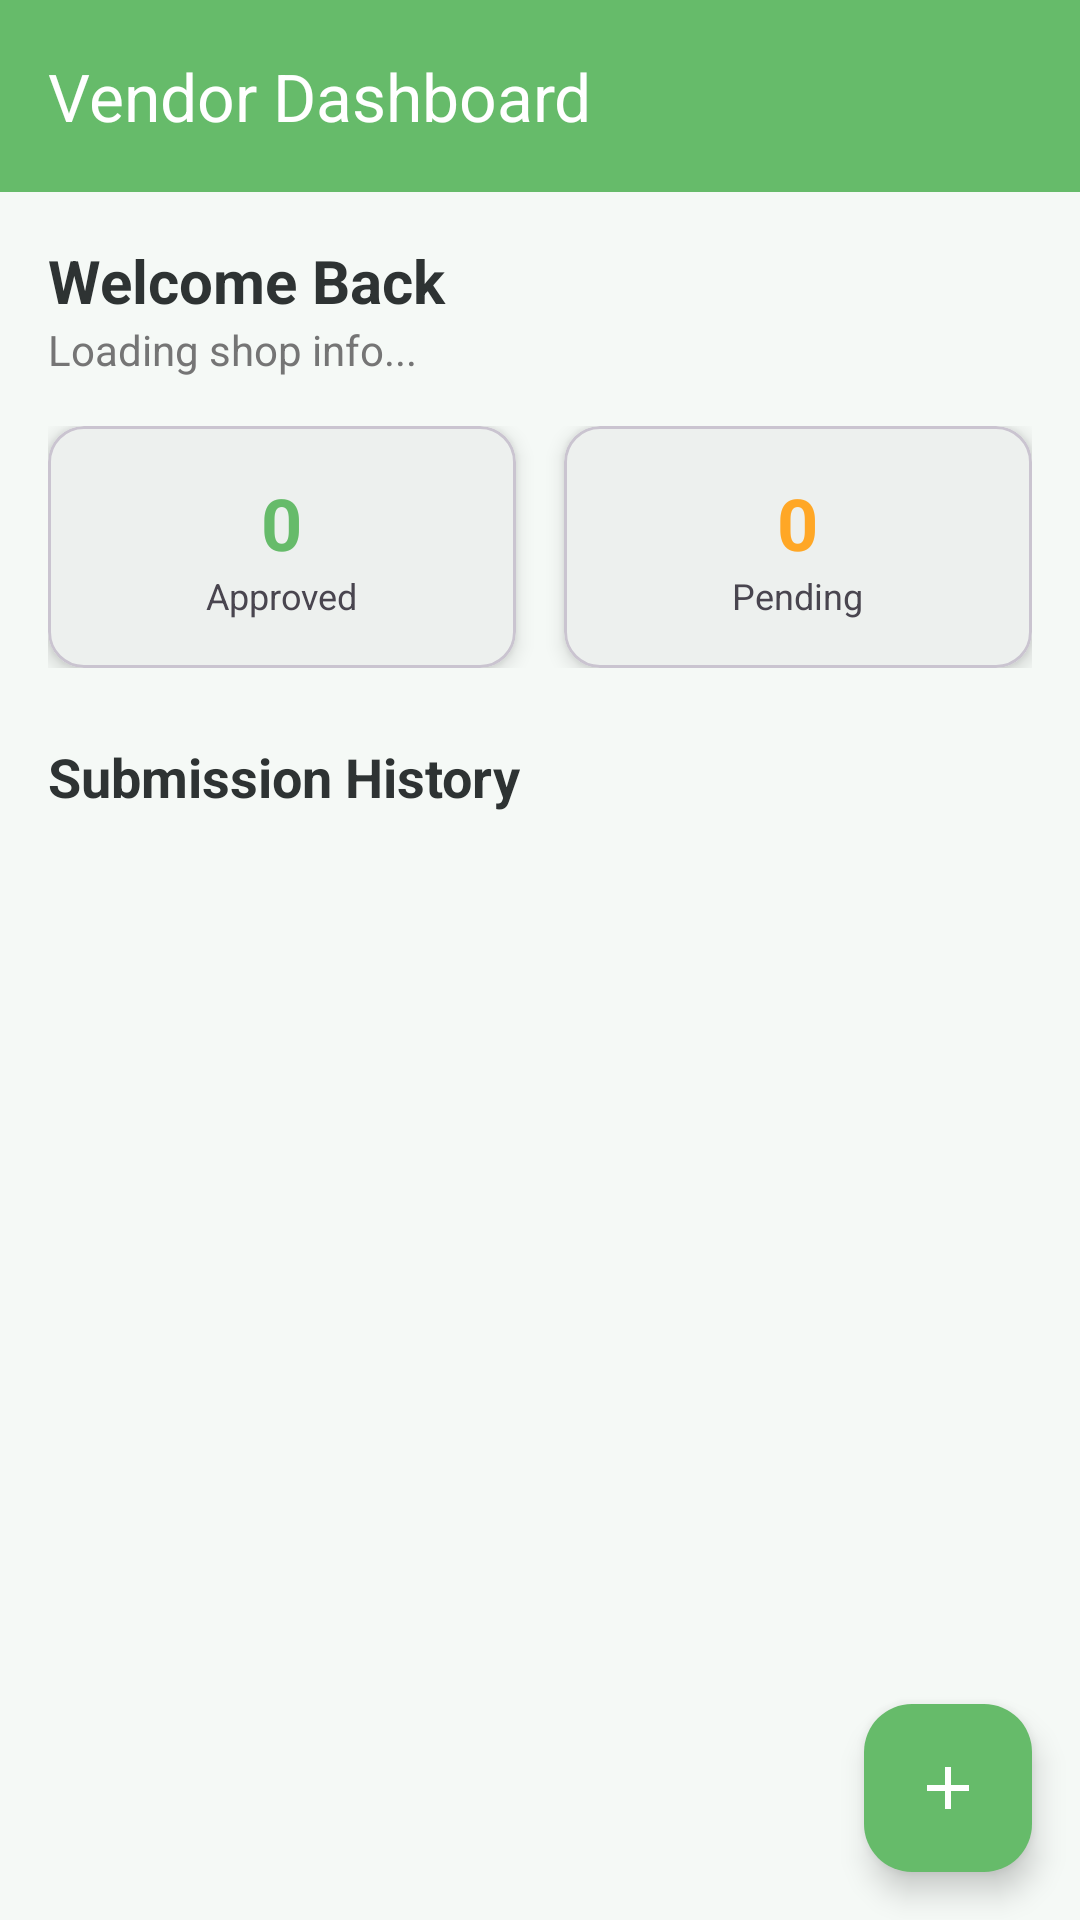

Point at icon controls on the screen. Image size 1080*1920, points as (x,y).
Add new price: (948,1788)
